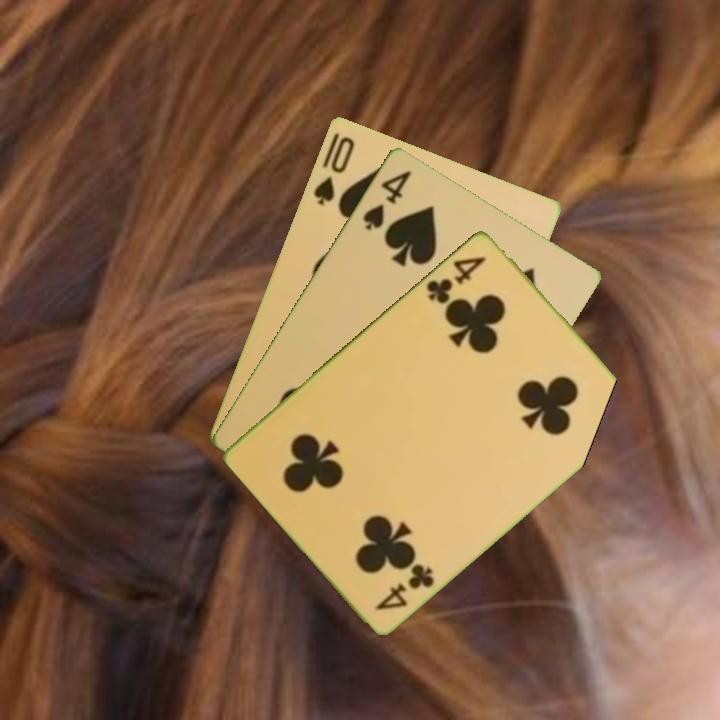10s: (309, 132, 357, 208)
4c: (422, 252, 489, 306), (372, 559, 438, 613)
4s: (359, 166, 415, 232)
